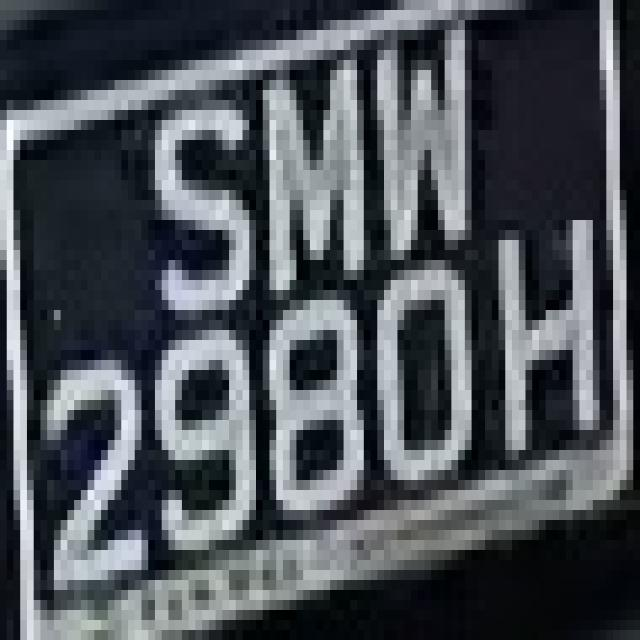0: (377, 240, 485, 490)
2: (13, 330, 155, 600)
8: (250, 280, 378, 550)
9: (128, 320, 269, 590)
H: (478, 210, 613, 510)
M: (249, 60, 384, 310)
S: (128, 80, 256, 330)
W: (370, 40, 492, 270)
